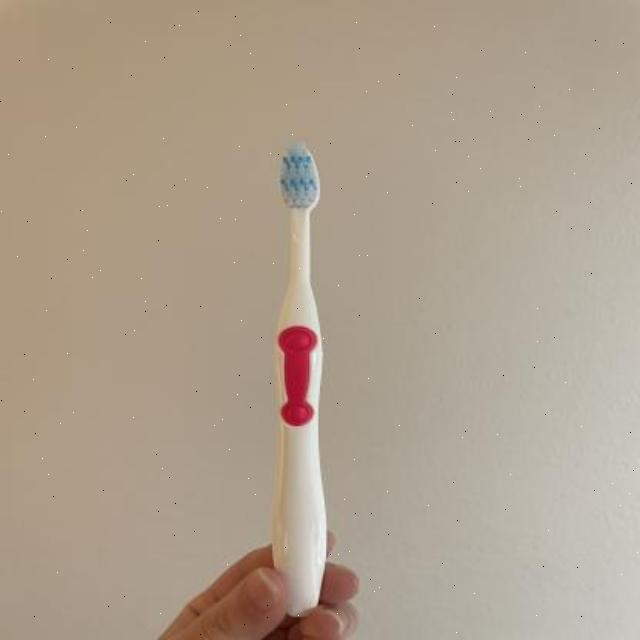toothbrush: (268, 138, 336, 626)
